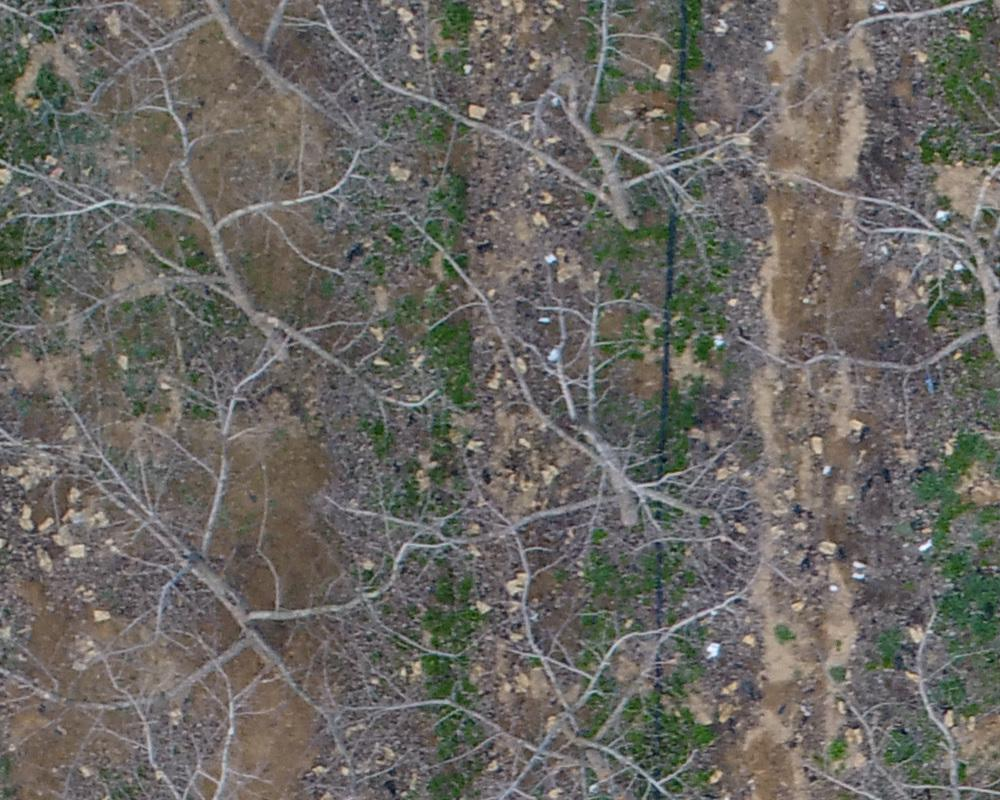apple: (14, 22, 457, 490), (17, 335, 447, 754), (401, 211, 808, 582), (414, 458, 770, 790), (322, 10, 794, 247), (735, 94, 990, 496)
